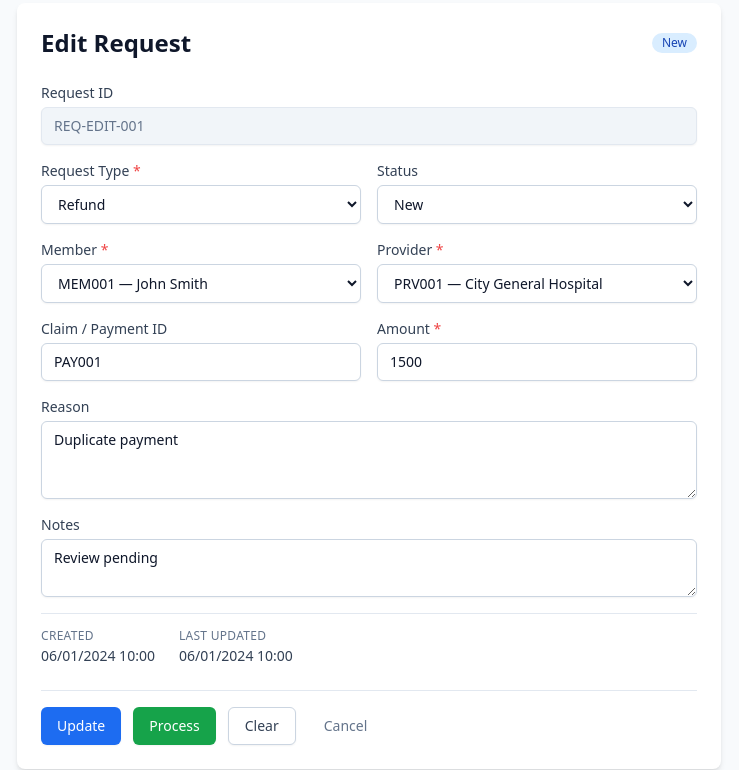
Scenario: RequestForm › edit mode › updates the request on valid Update click
This screenshot has width=739, height=770.
Step 1. Replace the text in the number field labelled "Amount *" with "2000" → point(537, 362), box [377, 343, 697, 381]
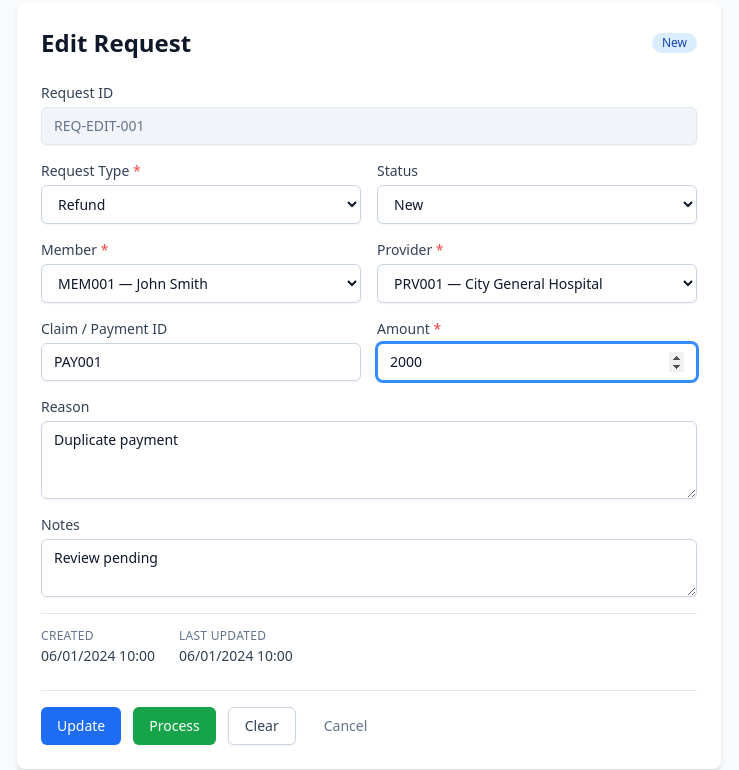
Step 2. Click the button "Update" → point(81, 726), box [41, 707, 121, 745]
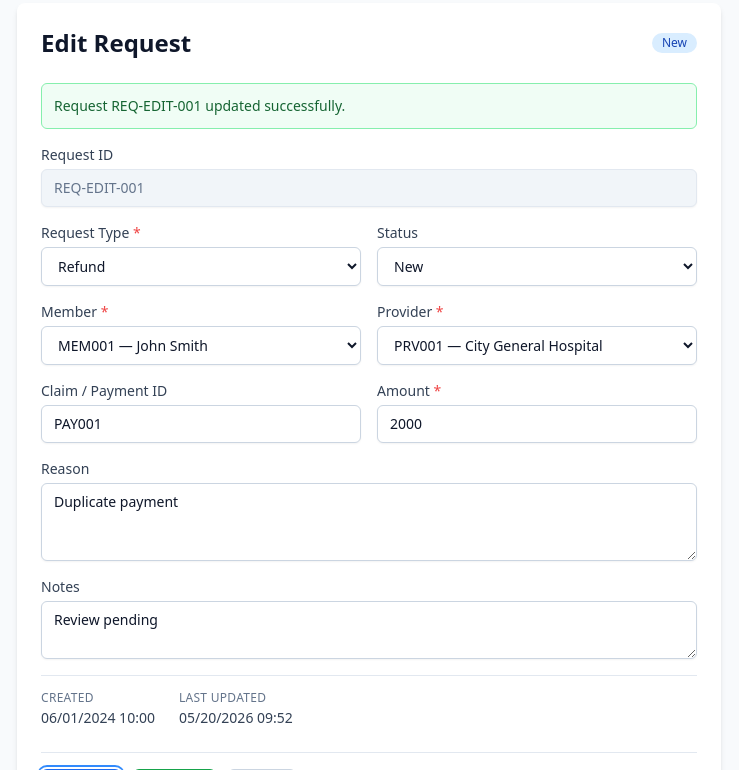
Check: the text "Request REQ-EDIT-001 updated successfully." is shown, box [54, 96, 345, 115]
